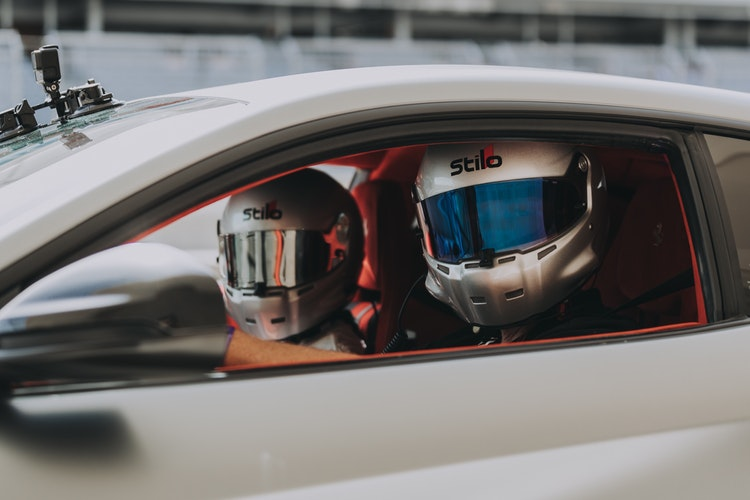helmet: (410, 130, 612, 316), (215, 177, 363, 330)
